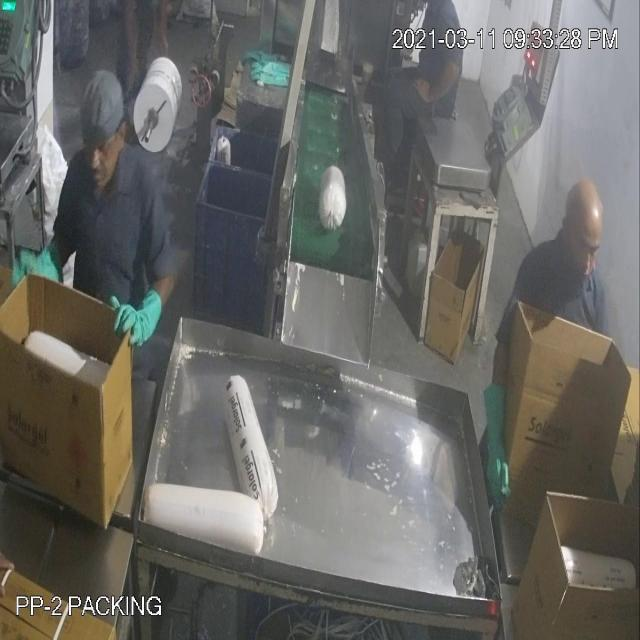No_Gloves: (19, 47, 500, 442)
